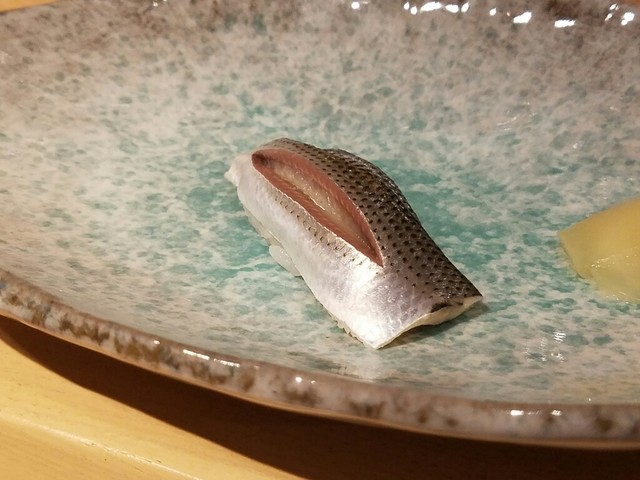spotted-shad: (221, 135, 488, 359)
